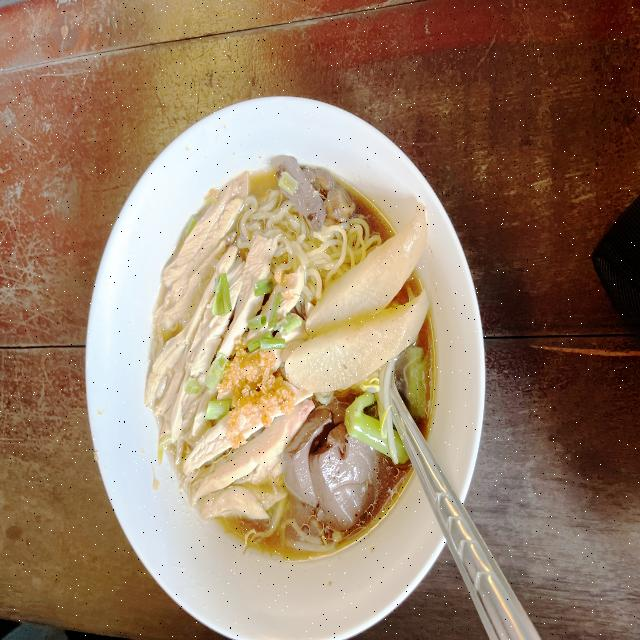boiled_chicken_blood_jelly: (285, 409, 375, 516)
chicken_shredded: (169, 169, 278, 532)
daikon_radish: (291, 208, 429, 386)
noodle: (132, 132, 460, 593)
